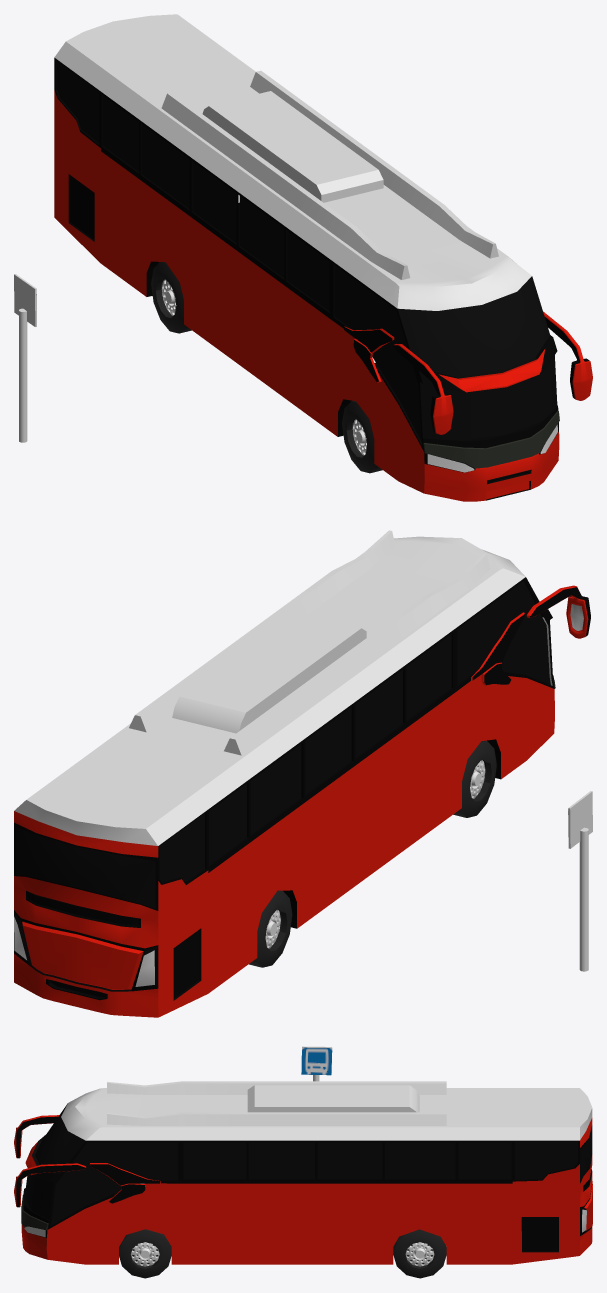
The model's file is SignWithBus2.gltf.
The picture shows the model from 3 angles, top to bottom: view 1: azimuth 30°, elevation 25°; view 2: azimuth 150°, elevation 25°; view 3: azimuth 270°, elevation 25°; orthographic projection. The views are drawn at different scales.
Visible parts, largest first — view 1: body_bus, Cylinder, Cube.001; view 2: body_bus, Cylinder, Cube.001; view 3: body_bus, Cube.
Part boxes in pixels (x1,y1,x2,y2): body_bus: (54, 14, 592, 501); Cylinder: (19, 308, 27, 442); Cube.001: (14, 274, 36, 326); body_bus: (14, 530, 590, 1017); Cylinder: (579, 827, 588, 971); Cube.001: (568, 791, 592, 848); body_bus: (14, 1081, 592, 1278); Cube: (301, 1047, 332, 1075).
Bounding box in the file's own units: 16.43 × 9.72 × 31.33.
Materials: 7 (1 with a texture image).
